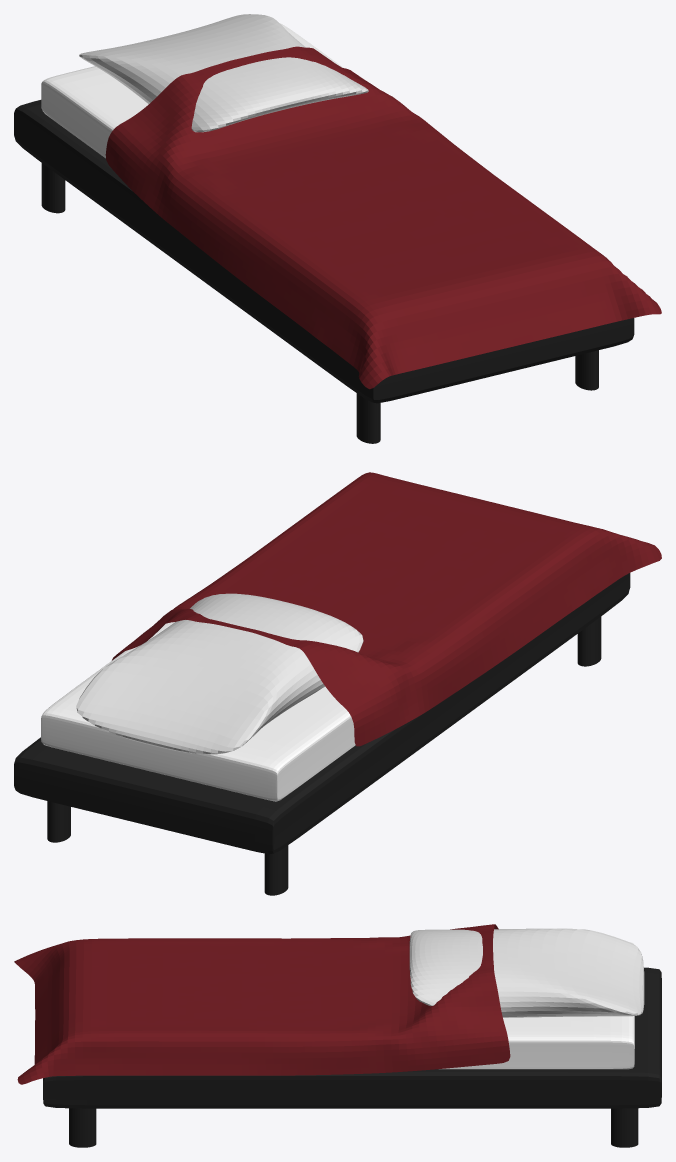
Rendered from bed.fbx.
3 views of the same model, one above another, from view 1: azimuth 30°, elevation 25°; view 2: azimuth 150°, elevation 25°; view 3: azimuth 270°, elevation 25° (orthographic). The views are drawn at different scales.
Parts seen in each view (by area): view 1: Blanket, BedFrame, Pillow, Matress, Foot; view 2: Blanket, Pillow, BedFrame, Matress, Foot; view 3: Blanket, BedFrame, Pillow, Matress, Foot.
Boxes of the visible parts, x1,y1,x2,y2 form: Blanket: (105,46,661,389); BedFrame: (14,100,634,403); Pillow: (79,14,368,132); Matress: (41,23,343,158); Foot: (41,163,598,443); Blanket: (112,472,661,746); Pillow: (76,593,363,754); BedFrame: (14,573,630,854); Matress: (41,622,355,801); Foot: (47,616,601,895); Blanket: (14,924,510,1084); BedFrame: (43,967,661,1108); Pillow: (409,928,644,1017); Matress: (439,942,634,1069); Foot: (69,1108,638,1147).
Size of the model in its own units: 322 by 185 by 709.
